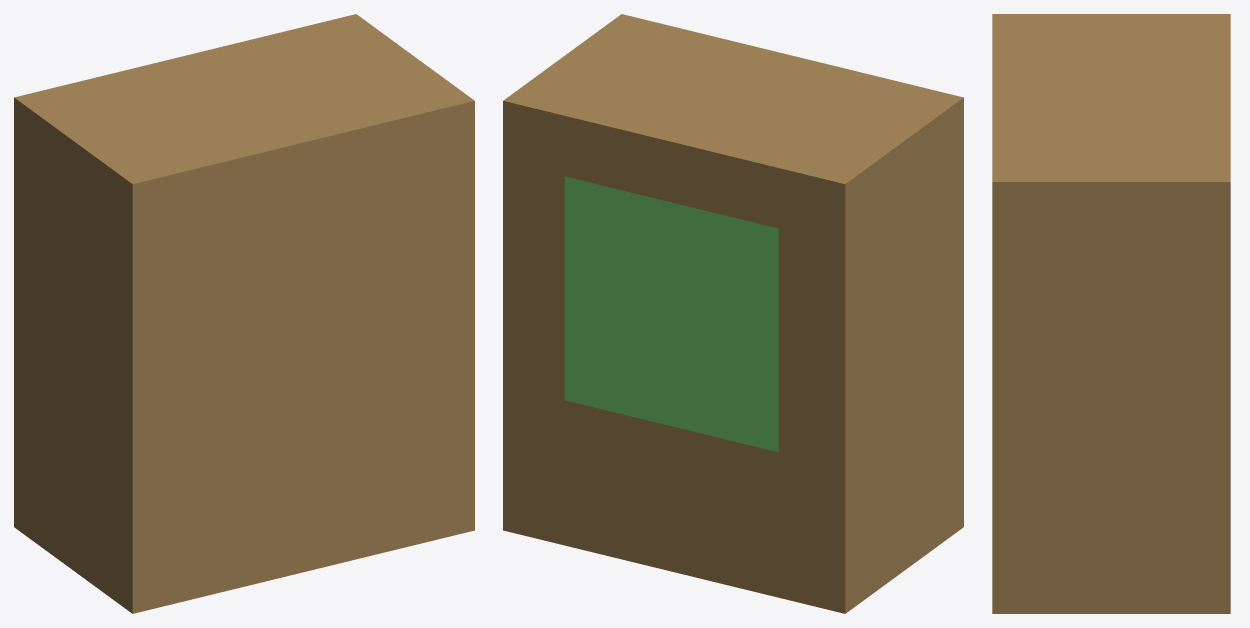
Rendered from fertilizer_bag.glb.
The picture shows the model from 3 angles, left to right: view 1: azimuth 30°, elevation 25°; view 2: azimuth 150°, elevation 25°; view 3: azimuth 270°, elevation 25°; orthographic projection.
Visible parts, largest first — view 1: FertilizerBag; view 2: FertilizerBag, Label; view 3: FertilizerBag.
Part boxes in pixels (x1,y1,x2,y2): FertilizerBag: [14, 14, 474, 613]; FertilizerBag: [503, 14, 963, 613]; Label: [564, 176, 778, 452]; FertilizerBag: [992, 14, 1230, 613].
Bounding box in the file's own units: 0.4 × 0.48 × 0.245.
